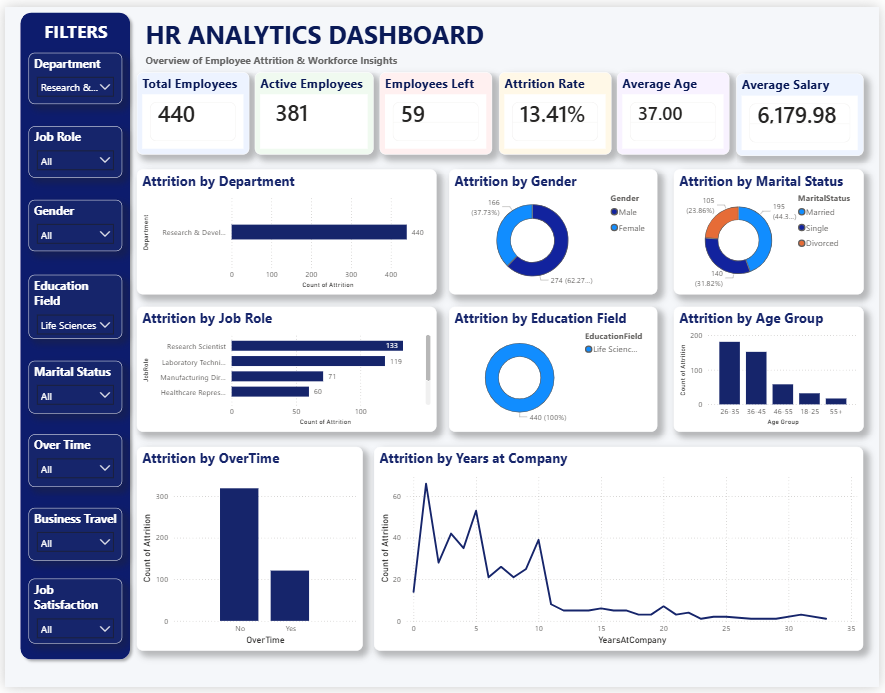

Layout of this report page (visuals, bound fields, positions):
{"tool":"powerbi","page":{"name":"Page 1","canvas":[1400,1090],"ordinal":0},"visuals":[{"type":"shape","box":[16,0,194,1054],"z":0},{"type":"textbox","title":"HR ANALYTICS DASHBOARD","box":[220,15,600,85],"z":1000},{"type":"cardVisual","title":"Total Employees","fields":{"Data":["Employee.Total Employees"]},"box":[210,105,180,132],"z":2000},{"type":"cardVisual","title":"Active Employees","fields":{"Data":["Employee.Active Employees"]},"box":[400,105,190,132],"z":3000},{"type":"cardVisual","title":"Employees Left","fields":{"Data":["Employee.Employees Left"]},"box":[600,105,180,132],"z":4000},{"type":"cardVisual","title":"Attrition Rate","fields":{"Data":["Employee.Attrition Rate"]},"box":[790,105,180,132],"z":5000},{"type":"cardVisual","title":"Average Age","fields":{"Data":["Employee.Average Age"]},"box":[980,105,180,132],"z":6000},{"type":"cardVisual","title":"Average Salary","fields":{"Data":["Employee.Average Salary"]},"box":[1170,106,204,132],"z":7000},{"type":"clusteredBarChart","title":"Attrition by Department","fields":{"Category":["Employee.Department"],"Y":["CountNonNull(Employee.Attrition)"]},"box":[210,260,480,200],"z":7001},{"type":"donutChart","title":"Attrition by Gender","fields":{"Y":["CountNonNull(Employee.Attrition)"],"Category":["Employee.Gender"]},"box":[710,260,334,200],"z":7002},{"type":"donutChart","title":"Attrition by Marital Status","fields":{"Y":["CountNonNull(Employee.Attrition)"],"Category":["Employee.MaritalStatus"]},"box":[1070,260,304,200],"z":7003},{"type":"clusteredBarChart","title":"Attrition by Job Role","fields":{"Y":["CountNonNull(Employee.Attrition)"],"Category":["Employee.JobRole"]},"box":[210,480,480,200],"z":7004},{"type":"donutChart","title":"Attrition by Education Field","fields":{"Y":["CountNonNull(Employee.Attrition)"],"Category":["Employee.EducationField"]},"box":[712,480,334,200],"z":7005},{"type":"clusteredColumnChart","title":"Attrition by Age Group","fields":{"Category":["Employee.Age Group"],"Y":["CountNonNull(Employee.Attrition)"]},"box":[1070,480,304,200],"z":7006},{"type":"clusteredColumnChart","title":"Attrition by OverTime","fields":{"Y":["CountNonNull(Employee.Attrition)"],"Category":["Employee.OverTime"]},"box":[210,703.3,361.7,326.7],"z":7007},{"type":"lineChart","title":"Attrition by Years at Company","fields":{"Category":["Employee.YearsAtCompany"],"Y":["CountNonNull(Employee.Attrition)"]},"box":[590,703.3,783.3,326.7],"z":7008},{"type":"textbox","title":"FILTERS","box":[48,20,130,38],"z":7009},{"type":"slicer","title":"Department","fields":{"Values":["Employee.Department"]},"box":[38,74,150,82],"z":7010},{"type":"slicer","title":"Job Role","fields":{"Values":["Employee.JobRole"]},"box":[38,190,150,82],"z":7011},{"type":"slicer","title":"Gender","fields":{"Values":["Employee.Gender"]},"box":[38,308,150,82],"z":7012},{"type":"slicer","title":"Education Field","fields":{"Values":["Employee.EducationField"]},"box":[38,428,150,102],"z":7013},{"type":"slicer","title":"Marital Status","fields":{"Values":["Employee.MaritalStatus"]},"box":[38,566,150,84],"z":7014},{"type":"slicer","title":"Over Time","fields":{"Values":["Employee.OverTime"]},"box":[38,684,150,84],"z":7015},{"type":"slicer","title":"Business Travel","fields":{"Values":["Employee.BusinessTravel"]},"box":[38,802,150,84],"z":7016},{"type":"slicer","title":"Job Satisfaction","fields":{"Values":["Employee.JobSatisfaction"]},"box":[38,916,150,104],"z":7017}]}

Visuals, with their boxes in screenshot pixels (x1, y1, x2, y2), scaled from the page's 1400x1090 canvas onto the 885x693 screenshot:
shape: (10, 0, 133, 670)
"HR ANALYTICS DASHBOARD" textbox: (139, 10, 518, 64)
"Total Employees" cardVisual: (133, 67, 247, 151)
"Active Employees" cardVisual: (253, 67, 373, 151)
"Employees Left" cardVisual: (379, 67, 493, 151)
"Attrition Rate" cardVisual: (499, 67, 613, 151)
"Average Age" cardVisual: (620, 67, 733, 151)
"Average Salary" cardVisual: (740, 67, 869, 151)
"Attrition by Department" clusteredBarChart: (133, 165, 436, 292)
"Attrition by Gender" donutChart: (449, 165, 660, 292)
"Attrition by Marital Status" donutChart: (676, 165, 869, 292)
"Attrition by Job Role" clusteredBarChart: (133, 305, 436, 432)
"Attrition by Education Field" donutChart: (450, 305, 661, 432)
"Attrition by Age Group" clusteredColumnChart: (676, 305, 869, 432)
"Attrition by OverTime" clusteredColumnChart: (133, 447, 361, 655)
"Attrition by Years at Company" lineChart: (373, 447, 868, 655)
"FILTERS" textbox: (30, 13, 113, 37)
"Department" slicer: (24, 47, 119, 99)
"Job Role" slicer: (24, 121, 119, 173)
"Gender" slicer: (24, 196, 119, 248)
"Education Field" slicer: (24, 272, 119, 337)
"Marital Status" slicer: (24, 360, 119, 413)
"Over Time" slicer: (24, 435, 119, 488)
"Business Travel" slicer: (24, 510, 119, 563)
"Job Satisfaction" slicer: (24, 582, 119, 648)
